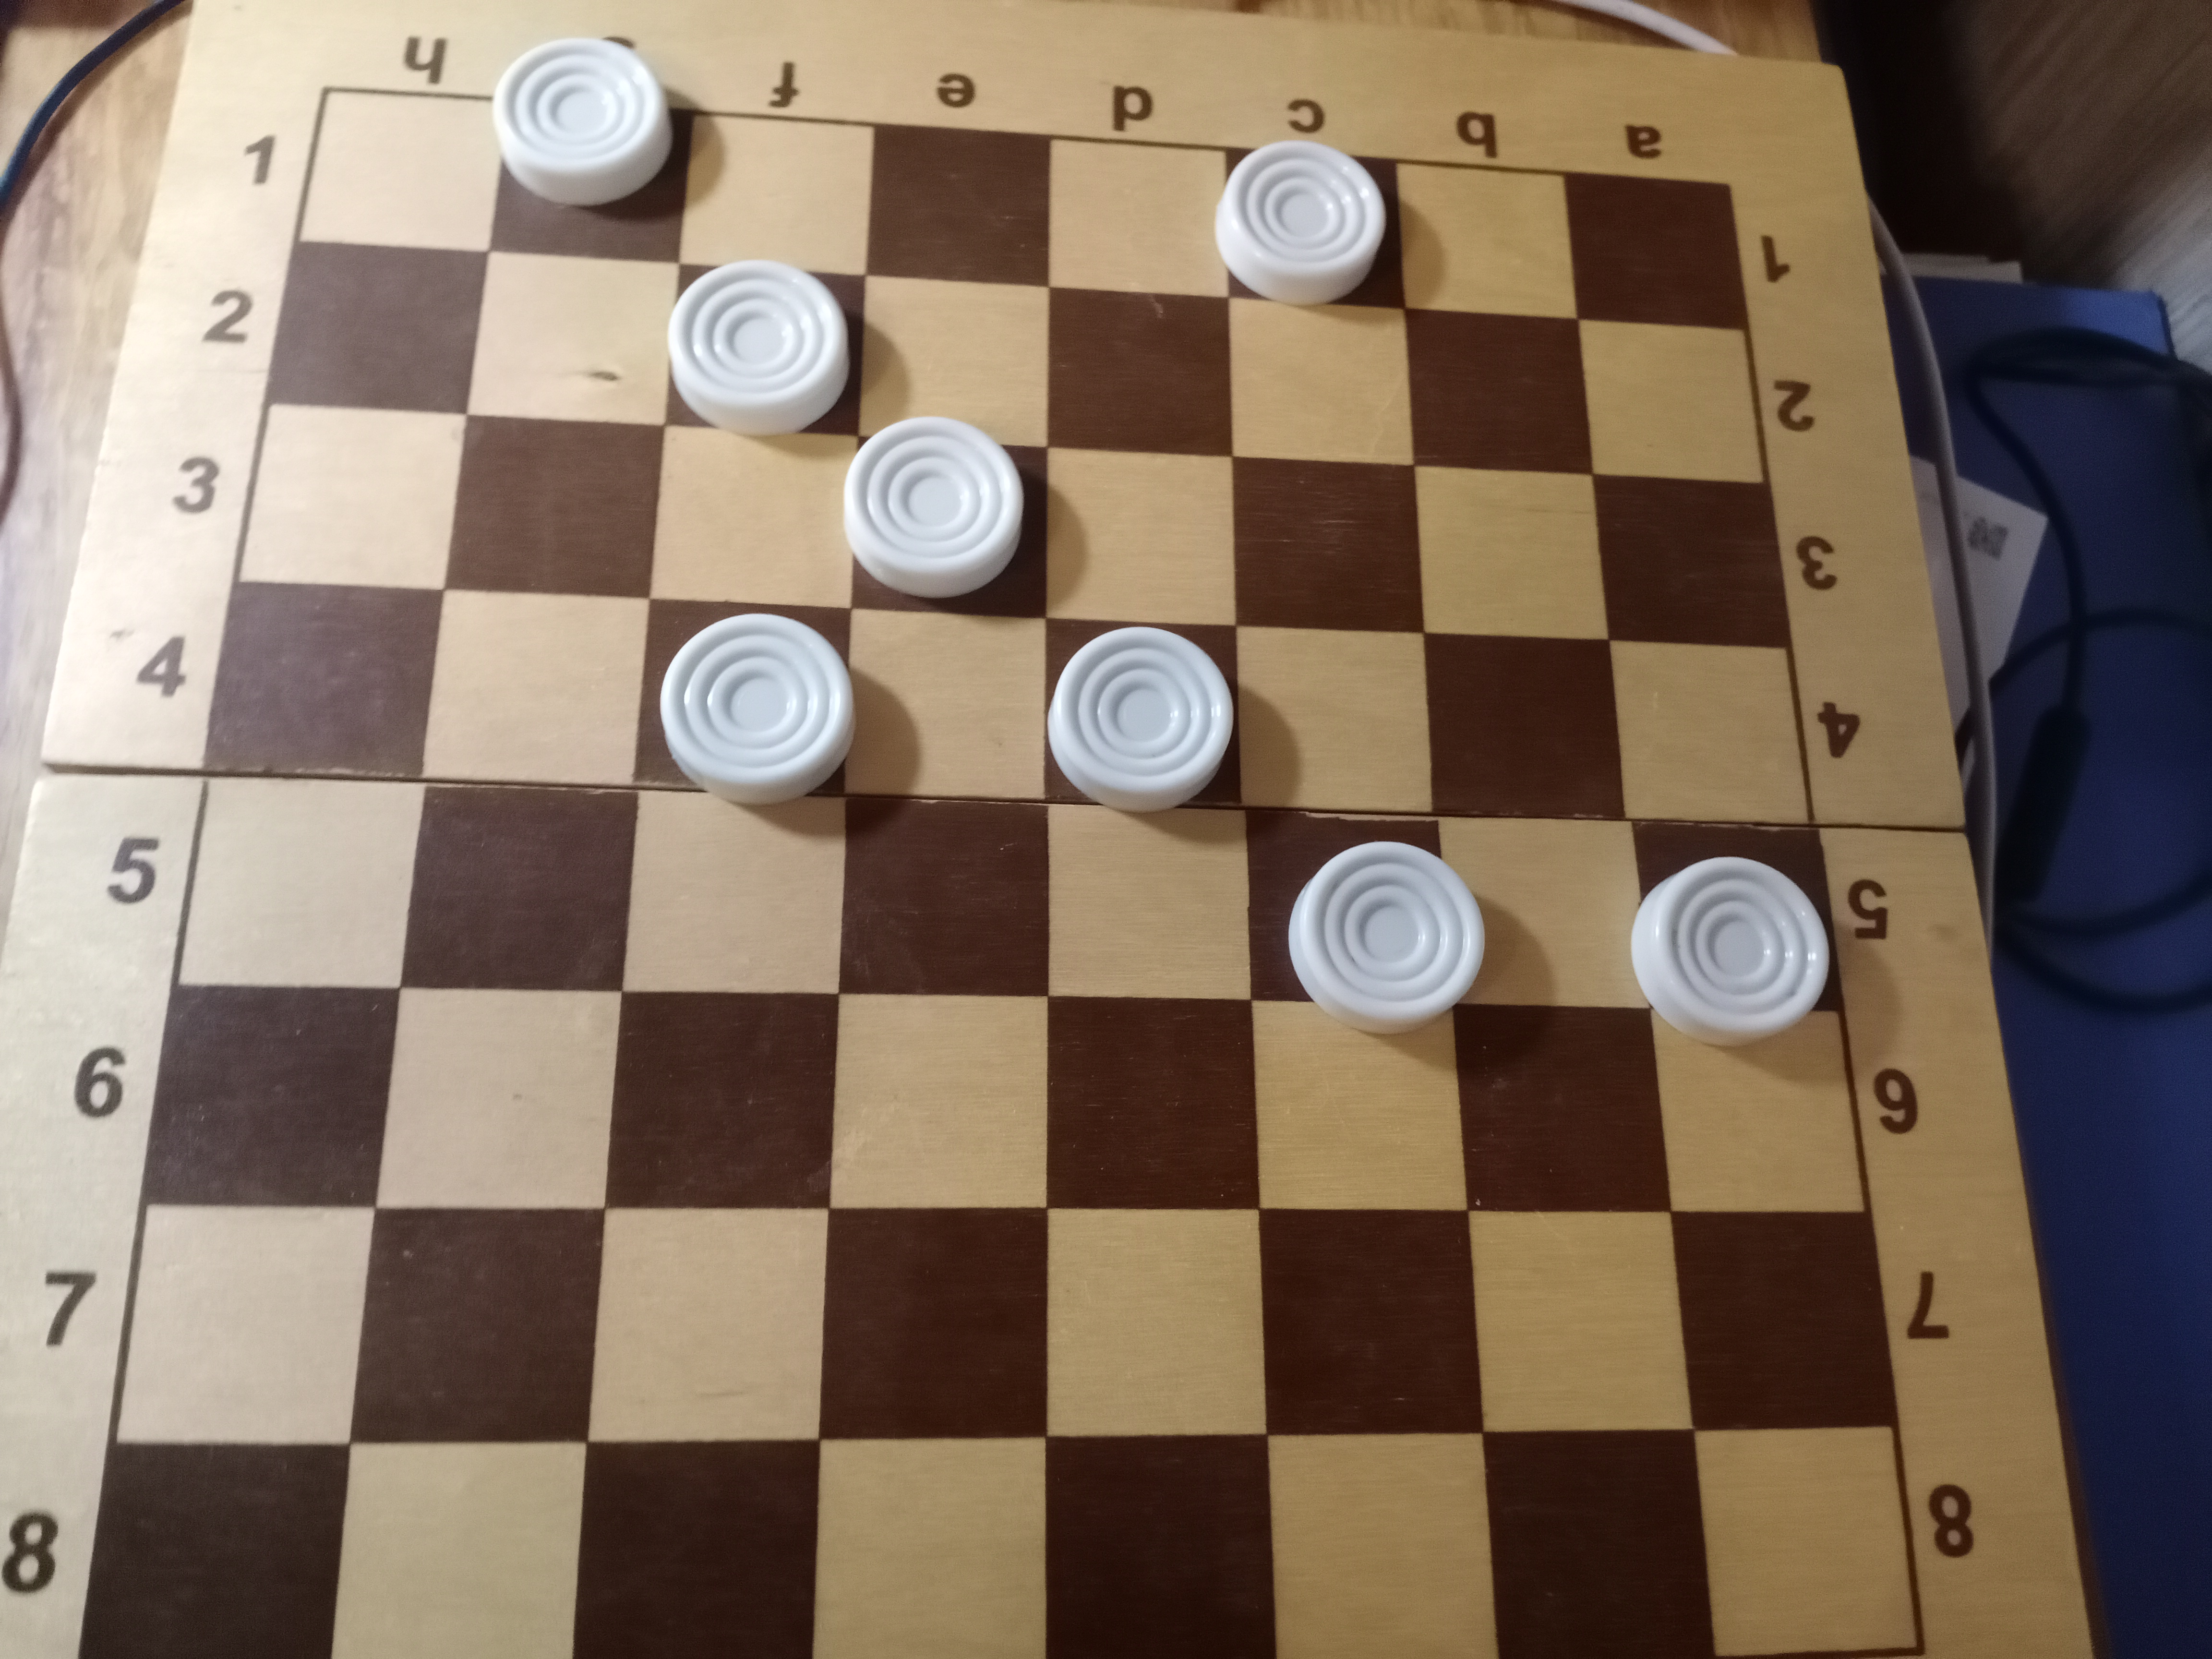White_Draught: (1245, 809, 1484, 1035), (1630, 821, 1839, 1046), (488, 37, 693, 265), (634, 599, 857, 805), (843, 415, 1047, 620), (1043, 617, 1242, 812), (662, 261, 869, 439), (1216, 141, 1406, 310)
